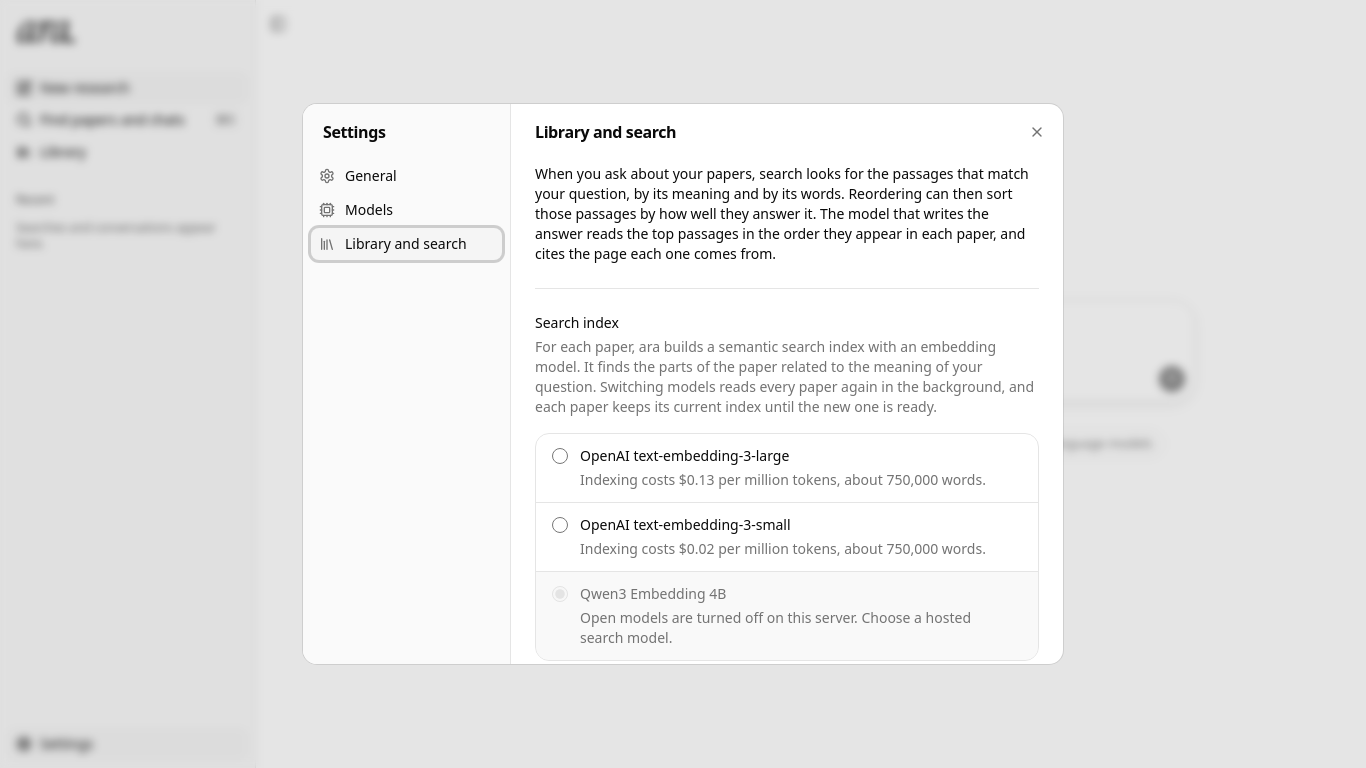
Scenario: Given a saved local library model with open models off, When switching, Then only hosted models are offered and estimated
The width and height of the screenshot is (1366, 768).
Click the radio button labelled "OpenAI text-embedding-3-small" at (560, 525), box x1=552 y1=517 x2=568 y2=533
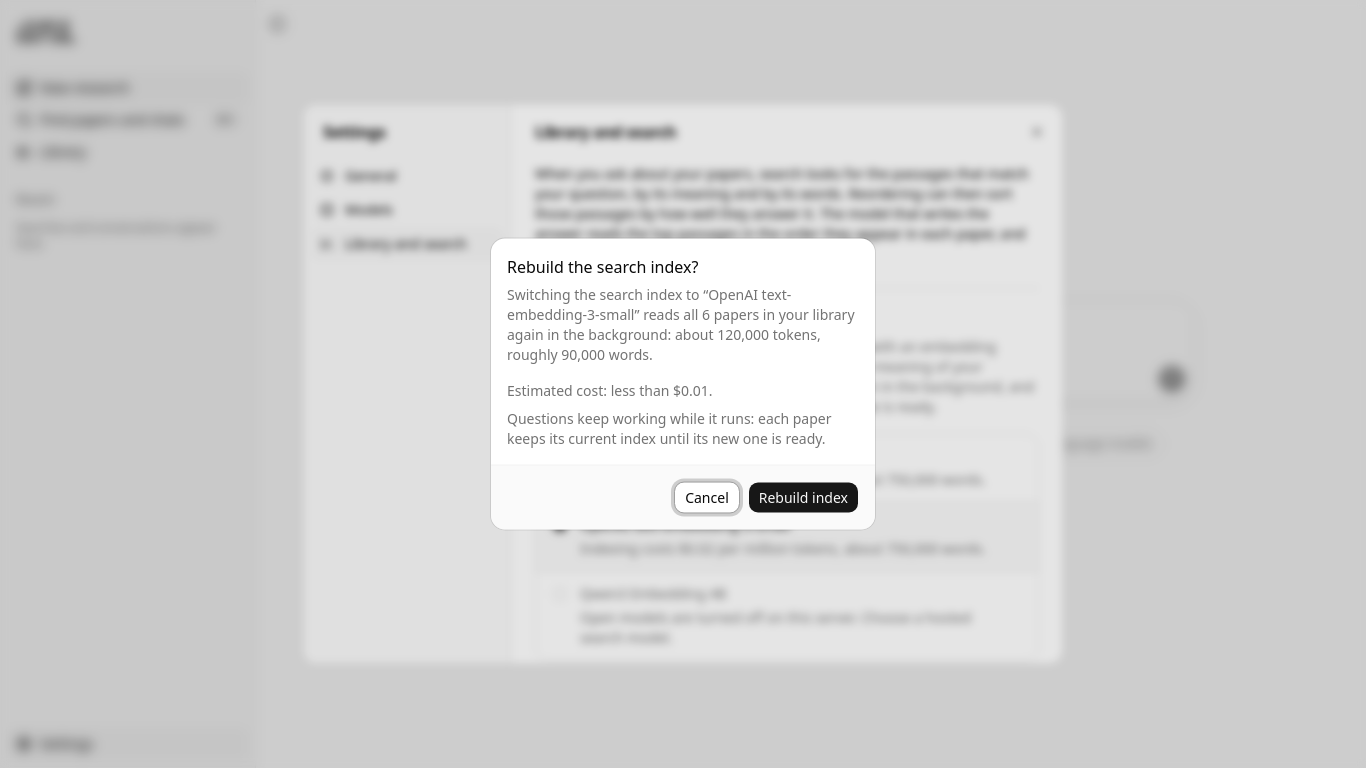
Check: the dialog "Rebuild the search index?" is shown, box x1=491 y1=238 x2=875 y2=530
Check: the text "6 papers" is shown, box x1=507 y1=284 x2=854 y2=364
